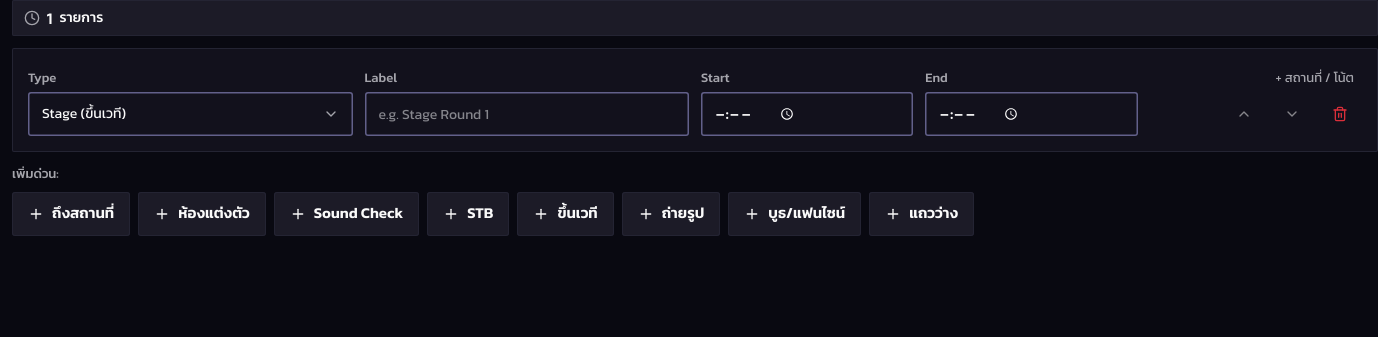
ScheduleEditor · folding the rarely-used fields › puts the cursor in Location — the button it was pressed on is gone
The image size is (1378, 337).
What coordinates should you click on to do the following:
click the button "+ สถานที่ / โน้ต"
I would click on:
 (1315, 72)
Its box is [1268, 56, 1362, 88].
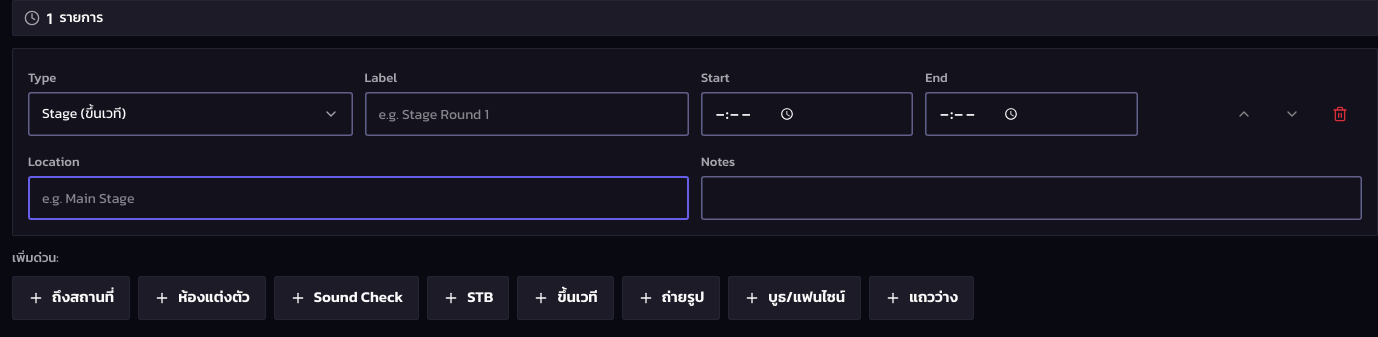
Expected: the button "+ สถานที่ / โน้ต" is gone
